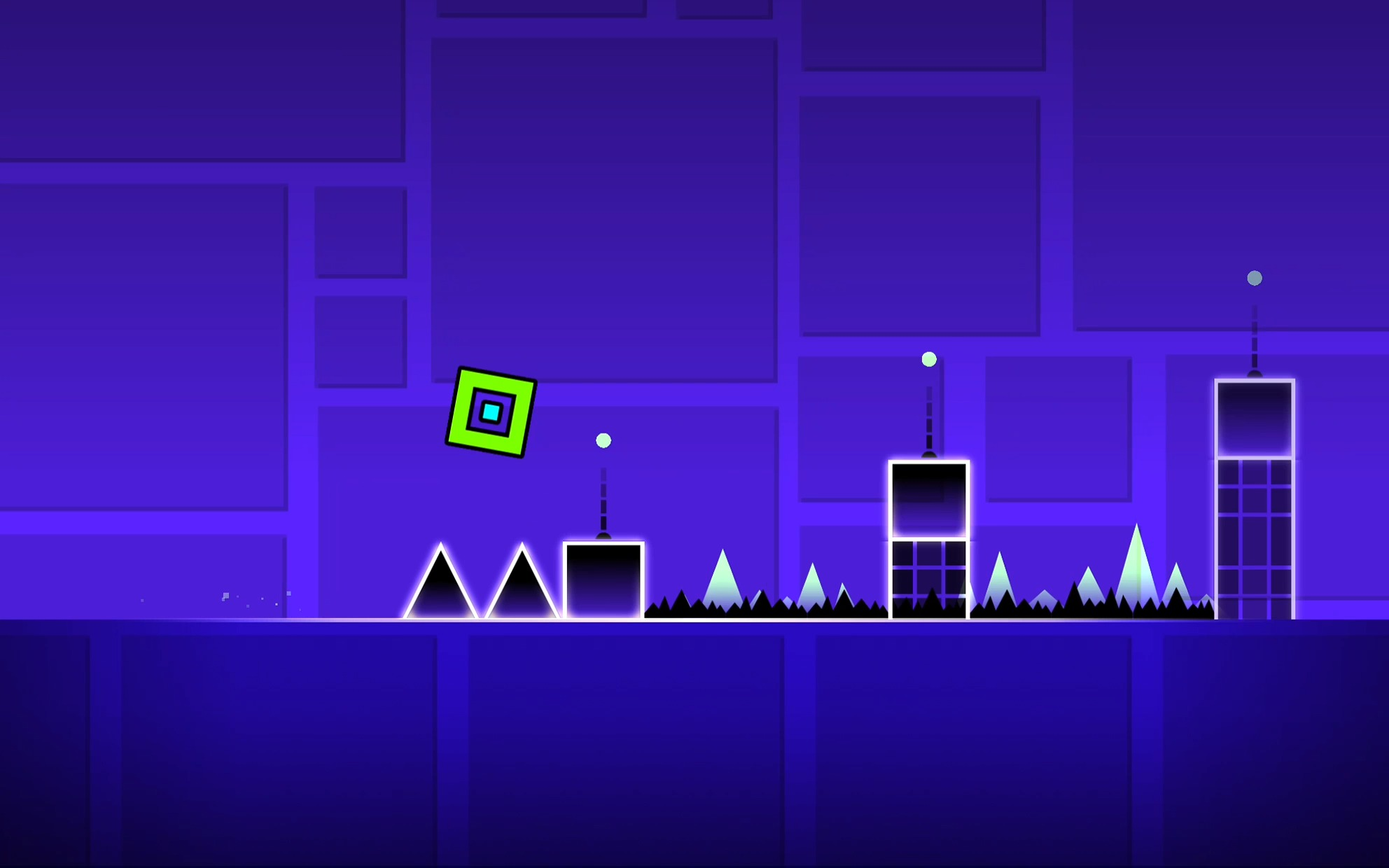Block: (559, 540, 645, 618), (888, 460, 969, 538), (1215, 378, 1294, 457)
Block2: (1216, 458, 1293, 622), (888, 540, 970, 618)
Player: (447, 366, 535, 456)
Spike: (400, 542, 477, 617), (484, 543, 560, 617)
Spike3: (975, 592, 1213, 621), (643, 592, 887, 618)
